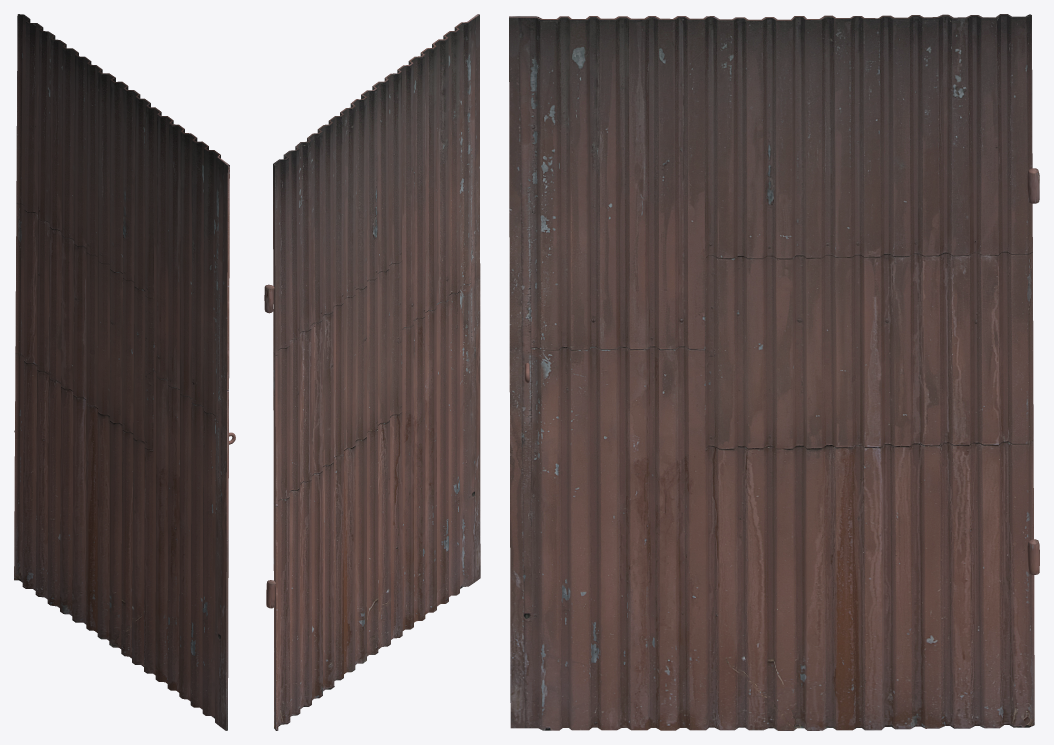
Rendered from sm_GarageDoor_01_07.fbx.
3 views of the same model, side by side, from view 1: azimuth 30°, elevation 25°; view 2: azimuth 150°, elevation 25°; view 3: azimuth 270°, elevation 25° (orthographic). The views are drawn at different scales.
Visible parts, largest first — view 1: sm_GarageDoor_01_07_LOD0; view 2: sm_GarageDoor_01_07_LOD0; view 3: sm_GarageDoor_01_07_LOD0.
Boxes of the visible parts, x1,y1,x2,y2 form: sm_GarageDoor_01_07_LOD0: [14, 14, 235, 730]; sm_GarageDoor_01_07_LOD0: [264, 14, 480, 730]; sm_GarageDoor_01_07_LOD0: [509, 14, 1039, 730].
Size of the model in its own units: 183 by 10.62 by 271.
